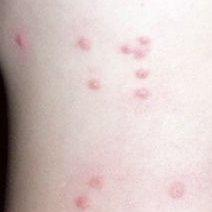Fleas: (167, 183, 188, 198), (85, 77, 101, 92), (133, 44, 149, 59), (133, 86, 149, 101), (73, 195, 90, 209), (14, 36, 27, 47), (90, 177, 102, 188), (79, 37, 89, 50), (137, 35, 149, 45), (137, 69, 149, 78), (122, 44, 131, 52)
